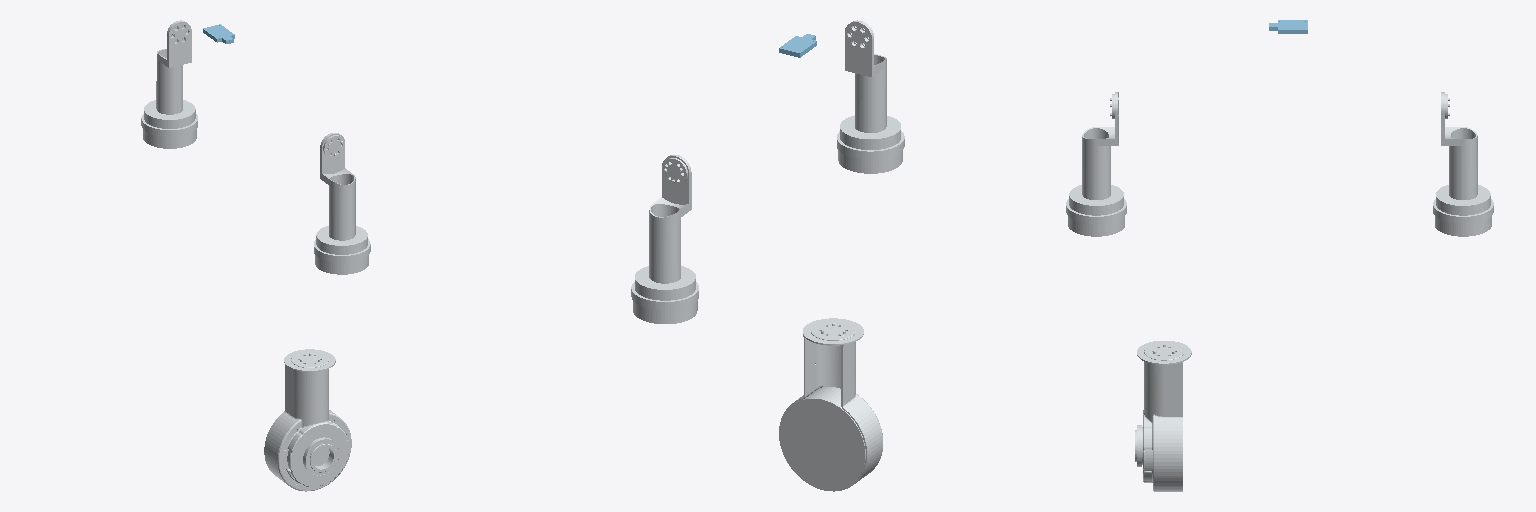
robot.urdf — k-bot_sim:
<robot name="k-bot_sim">
  <link name="floating_base_link">
  </link>
  <joint name="floating_base_joint" type="fixed">
    <parent link="floating_base_link"/>
    <child link="body1-part"/>
    <origin xyz="0 0 0" rpy="1.57 0 3.14"/>
  </joint>
  <joint name="imu_link" type="fixed">
    <origin xyz="0.039989 -0.127910 0" rpy="-1.570796 0 0"/>
    <parent link="body1-part"/>
    <child link="imu"/>
  </joint>
    <link name="imu">
    <visual name="imu_visual">
      <origin xyz="0 0 0" rpy="0 0 0"/>
      <geometry name="imu_geometry">
        <mesh filename="meshes/imu.stl"/>
      </geometry>
      <material name="imu_material">
        <color rgba="0.615686 0.811765 0.929412 1"/>
      </material>
    </visual>
    <inertial name="imu_inertial">
      <mass value="0.010000"/>
      <inertia ixx="0.000001" iyy="0.000001" izz="0.000002" ixy="0" ixz="0" iyz="0"/>
      <origin xyz="-0.007500 0 0.006000" rpy="0 0 0"/>
    </inertial>
  </link>
  <joint name="left_shoulder_pitch_03" type="revolute">
    <origin xyz="-0.000011 0.018090 0.188500" rpy="3.141593 0 3.141593"/>
    <parent link="body1-part"/>
    <child link="shoulder"/>
    <limit effort="60" velocity="6.283" lower="0" upper="3.141593"/>
    <axis xyz="0 0 1"/>
  </joint>
  <joint name="right_shoulder_pitch_03" type="revolute">
    <origin xyz="-0.000011 0.018090 -0.188500" rpy="0 0 -3.141593"/>
    <parent link="body1-part"/>
    <child link="shoulder_2"/>
    <limit effort="60" velocity="6.283" lower="-3.141593" upper="0"/>
    <axis xyz="0 0 1"/>
  </joint>
  <joint name="left_shoulder_roll_03" type="revolute">
    <origin xyz="0.023512 0.000056 -0.067500" rpy="1.570796 0 1.570796"/>
    <parent link="shoulder"/>
    <child link="arm1_top"/>
    <limit effort="60" velocity="6.283" lower="-3.630285" upper="0.479966"/>
    <axis xyz="0 0 -1"/>
  </joint>
  <joint name="right_shoulder_roll_03" type="revolute">
    <origin xyz="0.023512 -0.000056 -0.067500" rpy="1.570796 0 -1.570796"/>
    <parent link="shoulder_2"/>
    <child link="arm1_top_2"/>
    <limit effort="60" velocity="6.283" lower="-0.479966" upper="3.630285"/>
    <axis xyz="0 0 1"/>
  </joint>
  <joint name="left_hip_pitch_04" type="revolute">
    <origin xyz="-0.000011 -0.432010 0.088700" rpy="-3.141593 0 -3.141593"/>
    <parent link="body1-part"/>
    <child link="leg0_shell"/>
    <limit effort="120" velocity="6.283" lower="-1.570796" upper="1.570796"/>
    <axis xyz="0 0 1"/>
  </joint>
  <joint name="right_hip_pitch_04" type="revolute">
    <origin xyz="-0.000011 -0.432010 -0.089200" rpy="0 0 -3.141593"/>
    <parent link="body1-part"/>
    <child link="leg0_shell_2"/>
    <limit effort="120" velocity="6.283" lower="-1.570796" upper="1.570796"/>
    <axis xyz="0 0 1"/>
  </joint>
  <joint name="left_shoulder_yaw_02" type="revolute">
    <origin xyz="-0.140500 0 -0.023500" rpy="-1.570796 0 -1.570796"/>
    <parent link="arm1_top"/>
    <child link="arm2_shell"/>
    <limit effort="17" velocity="12.566" lower="-1.570796" upper="1.570796"/>
    <axis xyz="0 0 1"/>
  </joint>
  <joint name="right_shoulder_yaw_02" type="revolute">
    <origin xyz="-0.140500 0 0.022500" rpy="-3.141593 1.570796 0"/>
    <parent link="arm1_top_2"/>
    <child link="arm2_shell_2"/>
    <limit effort="17" velocity="12.566" lower="-1.570796" upper="1.570796"/>
    <axis xyz="0 0 -1"/>
  </joint>
  <joint name="left_hip_roll_03" type="revolute">
    <origin xyz="0.027500 0 -0.069500" rpy="-1.570796 0 1.570796"/>
    <parent link="leg0_shell"/>
    <child link="leg1_shell"/>
    <limit effort="60" velocity="6.283" lower="-3.185226" upper="0.349066"/>
    <axis xyz="0 0 1"/>
  </joint>
  <joint name="right_hip_roll_03" type="revolute">
    <origin xyz="0.027500 0 -0.069000" rpy="1.570796 0 -1.570796"/>
    <parent link="leg0_shell_2"/>
    <child link="leg1_shell3"/>
    <limit effort="60" velocity="6.283" lower="-0.349066" upper="3.185226"/>
    <axis xyz="0 0 1"/>
  </joint>
  <joint name="left_elbow_02" type="revolute">
    <origin xyz="-0.027000 0 -0.098000" rpy="-3.141593 -1.570796 0"/>
    <parent link="arm2_shell"/>
    <child link="arm3_shell"/>
    <limit effort="17" velocity="12.566" lower="-2.530727" upper="0"/>
    <axis xyz="0 0 1"/>
  </joint>
  <joint name="right_elbow_02" type="revolute">
    <origin xyz="0 -0.027000 0.097500" rpy="-1.570796 1.570796 0"/>
    <parent link="arm2_shell_2"/>
    <child link="arm3_shell2"/>
    <limit effort="17" velocity="12.566" lower="0" upper="2.530727"/>
    <axis xyz="0 0 1"/>
  </joint>
  <joint name="left_hip_yaw_03" type="revolute">
    <origin xyz="-0.157500 0.000120 0.027500" rpy="0 1.570796 0"/>
    <parent link="leg1_shell"/>
    <child link="leg2_shell"/>
    <limit effort="60" velocity="6.283" lower="-1.570796" upper="1.570796"/>
    <axis xyz="0 0 1"/>
  </joint>
  <joint name="right_hip_yaw_03" type="revolute">
    <origin xyz="-0.157500 -0.000120 0.027500" rpy="-3.141593 -1.570796 0"/>
    <parent link="leg1_shell3"/>
    <child link="leg2_shell_2"/>
    <limit effort="60" velocity="6.283" lower="-1.570796" upper="1.570796"/>
    <axis xyz="0 0 1"/>
  </joint>
  <joint name="left_wrist_02" type="revolute">
    <origin xyz="-0.182500 0 0.021500" rpy="-1.570796 0 -1.570796"/>
    <parent link="arm3_shell"/>
    <child link="hand_shell"/>
    <limit effort="17" velocity="12.566" lower="-3.141593" upper="3.141593"/>
    <axis xyz="0 0 1"/>
  </joint>
  <joint name="right_wrist_02" type="revolute">
    <origin xyz="-0.182500 0 0.021500" rpy="1.570796 0 1.570796"/>
    <parent link="arm3_shell2"/>
    <child link="hand_shell_2"/>
    <limit effort="17" velocity="12.566" lower="-3.141593" upper="3.141593"/>
    <axis xyz="0 0 1"/>
  </joint>
  <joint name="left_knee_04" type="revolute">
    <origin xyz="0 -0.027000 -0.142500" rpy="1.570796 0 0"/>
    <parent link="leg2_shell"/>
    <child link="leg3_shell1"/>
    <limit effort="120" velocity="6.283" lower="0" upper="2.094395"/>
    <axis xyz="0 0 -1"/>
  </joint>
  <joint name="right_knee_04" type="revolute">
    <origin xyz="0 -0.027000 -0.142500" rpy="1.570796 0 0"/>
    <parent link="leg2_shell_2"/>
    <child link="leg3_shell11"/>
    <limit effort="120" velocity="6.283" lower="-2.094395" upper="0"/>
    <axis xyz="0 0 -1"/>
  </joint>
  <joint name="right_ankle_02" type="revolute">
    <origin xyz="0 -0.300000 -0.035500" rpy="3.141593 0 3.141593"/>
    <parent link="leg3_shell11"/>
    <child link="foot3"/>
    <limit effort="17" velocity="12.566" lower="-0.698132" upper="0.698132"/>
    <axis xyz="0 0 1.0"/>
  </joint>
  <joint name="left_ankle_02" type="revolute">
    <origin xyz="0 -0.300000 0.009500" rpy="0 0 0"/>
    <parent link="leg3_shell1"/>
    <child link="foot1"/>
    <limit effort="17" velocity="12.566" lower="-0.698132" upper="0.698132"/>
    <axis xyz="0 0 -1"/>
  </joint>
  <link name="body1-part">
    <visual name="body1-part_visual">
      <origin xyz="0 0 0" rpy="0 0 0"/>
      <geometry name="body1-part_geometry">
        <mesh filename="meshes/body1-part.stl"/>
      </geometry>
      <material name="body1-part_material">
        <color rgba="1 1 1 1"/>
      </material>
    </visual>
    <collision name="body1-part.collision">
      <origin xyz="0 0 0" rpy="0 0 0"/>
      <geometry name="body1-part_collision_geometry">
        <mesh filename="meshes/body1-part.collision.stl"/>
      </geometry>
    </collision>
    <inertial name="body1-part_inertial">
      <mass value="9.415838"/>
      <inertia ixx="0.406102" iyy="0.096732" izz="0.321504" ixy="0.001018" ixz="0.000014" iyz="-0.000180"/>
      <origin xyz="-0.000153 -0.214129 -0.000094" rpy="0 0 0"/>
    </inertial>
  </link>
  <link name="shoulder">
    <visual name="shoulder_visual">
      <origin xyz="0 0 0" rpy="0 0 0"/>
      <geometry name="shoulder_geometry">
        <mesh filename="meshes/shoulder.stl"/>
      </geometry>
      <material name="shoulder_material">
        <color rgba="1 1 1 1"/>
      </material>
    </visual>
    <collision name="shoulder.collision">
      <origin xyz="0 0 0" rpy="0 0 0"/>
      <geometry name="shoulder_collision_geometry">
        <mesh filename="meshes/shoulder.collision.stl"/>
      </geometry>
    </collision>
    <inertial name="shoulder_inertial">
      <mass value="1.107356"/>
      <inertia ixx="0.001481" iyy="0.001039" izz="0.000986" ixy="0" ixz="-0.000003" iyz="0"/>
      <origin xyz="-0.002144 0.000055 -0.066483" rpy="0 0 0"/>
    </inertial>
  </link>
  <link name="shoulder_2">
    <visual name="shoulder_visual_2">
      <origin xyz="0 0 0" rpy="0 0 0"/>
      <geometry name="shoulder_geometry_2">
        <mesh filename="meshes/shoulder_2.stl"/>
      </geometry>
      <material name="shoulder_material_2">
        <color rgba="1 1 1 1"/>
      </material>
    </visual>
    <collision name="shoulder.collision_2">
      <origin xyz="0 0 0" rpy="0 0 0"/>
      <geometry name="shoulder_collision_geometry_2">
        <mesh filename="meshes/shoulder_2.collision.stl"/>
      </geometry>
    </collision>
    <inertial name="shoulder_inertial_2">
      <mass value="1.107354"/>
      <inertia ixx="0.001481" iyy="0.001039" izz="0.000986" ixy="0" ixz="-0.000003" iyz="0"/>
      <origin xyz="-0.002144 -0.000055 -0.066483" rpy="0 0 0"/>
    </inertial>
  </link>
  <link name="arm1_top">
    <visual name="arm1_top_visual">
      <origin xyz="0 0 0" rpy="0 0 0"/>
      <geometry name="arm1_top_geometry">
        <mesh filename="meshes/arm1_top.stl"/>
      </geometry>
      <material name="arm1_top_material">
        <color rgba="0.898039 0.917647 0.929412 1"/>
      </material>
    </visual>
    <inertial name="arm1_top_inertial">
      <mass value="0.572732"/>
      <inertia ixx="0.000453" iyy="0.001076" izz="0.001035" ixy="0" ixz="-0.000195" iyz="0"/>
      <origin xyz="-0.099486 -0.000001 -0.019082" rpy="0 0 0"/>
    </inertial>
  </link>
  <link name="arm1_top_2">
    <visual name="arm1_top_2_visual">
      <origin xyz="0 0 0" rpy="0 0 0"/>
      <geometry name="arm1_top_2_geometry">
        <mesh filename="meshes/arm1_top_2.stl"/>
      </geometry>
      <material name="arm1_top_2_material">
        <color rgba="0.898039 0.917647 0.929412 1"/>
      </material>
    </visual>
    <inertial name="arm1_top_2_inertial">
      <mass value="0.572732"/>
      <inertia ixx="0.000453" iyy="0.001076" izz="0.001035" ixy="0" ixz="0.000195" iyz="0"/>
      <origin xyz="-0.099486 -0.000001 0.018082" rpy="0 0 0"/>
    </inertial>
  </link>
  <link name="leg0_shell">
    <visual name="leg0_shell_visual">
      <origin xyz="0 0 0" rpy="0 0 0"/>
      <geometry name="leg0_shell_geometry">
        <mesh filename="meshes/leg0_shell.stl"/>
      </geometry>
      <material name="leg0_shell_material">
        <color rgba="0.898039 0.917647 0.929412 1"/>
      </material>
    </visual>
    <collision name="leg0_shell.collision">
      <origin xyz="0 0 0" rpy="0 0 0"/>
      <geometry name="leg0_shell_collision_geometry">
        <mesh filename="meshes/leg0_shell.collision.stl"/>
      </geometry>
    </collision>
    <inertial name="leg0_shell_inertial">
      <mass value="1.323448"/>
      <inertia ixx="0.001886" iyy="0.001425" izz="0.001300" ixy="0" ixz="0.000007" iyz="0"/>
      <origin xyz="-0.003746 0 -0.068125" rpy="0 0 0"/>
    </inertial>
  </link>
  <link name="leg0_shell_2">
    <visual name="leg0_shell_visual_2">
      <origin xyz="0 0 0" rpy="0 0 0"/>
      <geometry name="leg0_shell_geometry_2">
        <mesh filename="meshes/leg0_shell_2.stl"/>
      </geometry>
      <material name="leg0_shell_material_2">
        <color rgba="0.898039 0.917647 0.929412 1"/>
      </material>
    </visual>
    <collision name="leg0_shell.collision_2">
      <origin xyz="0 0 0" rpy="0 0 0"/>
      <geometry name="leg0_shell_collision_geometry_2">
        <mesh filename="meshes/leg0_shell_2.collision.stl"/>
      </geometry>
    </collision>
    <inertial name="leg0_shell_inertial_2">
      <mass value="1.323448"/>
      <inertia ixx="0.001886" iyy="0.001425" izz="0.001300" ixy="0" ixz="0.000007" iyz="0"/>
      <origin xyz="-0.003746 0 -0.067625" rpy="0 0 0"/>
    </inertial>
  </link>
  <link name="arm2_shell">
    <visual name="arm2_shell_visual">
      <origin xyz="0 0 0" rpy="0 0 0"/>
      <geometry name="arm2_shell_geometry">
        <mesh filename="meshes/arm2_shell.stl"/>
      </geometry>
      <material name="arm2_shell_material">
        <color rgba="0.898039 0.917647 0.929412 1"/>
      </material>
    </visual>
    <collision name="arm2_shell.collision">
      <origin xyz="0 0 0" rpy="0 0 0"/>
      <geometry name="arm2_shell_collision_geometry">
        <mesh filename="meshes/arm2_shell.collision.stl"/>
      </geometry>
    </collision>
    <inertial name="arm2_shell_inertial">
      <mass value="0.510678"/>
      <inertia ixx="0.000675" iyy="0.000532" izz="0.000255" ixy="0" ixz="-0.000006" iyz="0"/>
      <origin xyz="-0.006339 0 -0.090482" rpy="0 0 0"/>
    </inertial>
  </link>
  <link name="arm2_shell_2">
    <visual name="arm2_shell_visual_2">
      <origin xyz="0 0 0" rpy="0 0 0"/>
      <geometry name="arm2_shell_geometry_2">
        <mesh filename="meshes/arm2_shell_2.stl"/>
      </geometry>
      <material name="arm2_shell_material_2">
        <color rgba="0.898039 0.917647 0.929412 1"/>
      </material>
    </visual>
    <collision name="arm2_shell.collision_2">
      <origin xyz="0 0 0" rpy="0 0 0"/>
      <geometry name="arm2_shell_collision_geometry_2">
        <mesh filename="meshes/arm2_shell_2.collision.stl"/>
      </geometry>
    </collision>
    <inertial name="arm2_shell_inertial_2">
      <mass value="0.510678"/>
      <inertia ixx="0.000532" iyy="0.000675" izz="0.000255" ixy="0" ixz="0" iyz="0.000006"/>
      <origin xyz="0 -0.006339 0.089982" rpy="0 0 0"/>
    </inertial>
  </link>
  <link name="leg1_shell">
    <visual name="leg1_shell_visual">
      <origin xyz="0 0 0" rpy="0 0 0"/>
      <geometry name="leg1_shell_geometry">
        <mesh filename="meshes/leg1_shell.stl"/>
      </geometry>
      <material name="leg1_shell_material">
        <color rgba="0.898039 0.917647 0.929412 1"/>
      </material>
    </visual>
    <inertial name="leg1_shell_inertial">
      <mass value="1.264352"/>
      <inertia ixx="0.001481" iyy="0.002486" izz="0.002413" ixy="-0.000018" ixz="0.000290" iyz="-0.000002"/>
      <origin xyz="-0.112524 0.000529 0.025259" rpy="0 0 0"/>
    </inertial>
  </link>
  <link name="leg1_shell3">
    <visual name="leg1_shell3_visual">
      <origin xyz="0 0 0" rpy="0 0 0"/>
      <geometry name="leg1_shell3_geometry">
        <mesh filename="meshes/leg1_shell3.stl"/>
      </geometry>
      <material name="leg1_shell3_material">
        <color rgba="0.898039 0.917647 0.929412 1"/>
      </material>
    </visual>
    <inertial name="leg1_shell3_inertial">
      <mass value="1.264352"/>
      <inertia ixx="0.001481" iyy="0.002486" izz="0.002413" ixy="0.000018" ixz="0.000290" iyz="0.000002"/>
      <origin xyz="-0.112524 -0.000529 0.025259" rpy="0 0 0"/>
    </inertial>
  </link>
  <link name="arm3_shell">
    <visual name="arm3_shell_visual">
      <origin xyz="0 0 0" rpy="0 0 0"/>
      <geometry name="arm3_shell_geometry">
        <mesh filename="meshes/arm3_shell.stl"/>
      </geometry>
      <material name="arm3_shell_material">
        <color rgba="0.898039 0.917647 0.929412 1"/>
      </material>
    </visual>
    <inertial name="arm3_shell_inertial">
      <mass value="0.578536"/>
      <inertia ixx="0.000428" iyy="0.001354" izz="0.001332" ixy="0" ixz="0.000144" iyz="0"/>
      <origin xyz="-0.140169 0 0.019433" rpy="0 0 0"/>
    </inertial>
  </link>
  <link name="arm3_shell2">
    <visual name="arm3_shell2_visual">
      <origin xyz="0 0 0" rpy="0 0 0"/>
      <geometry name="arm3_shell2_geometry">
        <mesh filename="meshes/arm3_shell2.stl"/>
      </geometry>
      <material name="arm3_shell2_material">
        <color rgba="0.898039 0.917647 0.929412 1"/>
      </material>
    </visual>
    <inertial name="arm3_shell2_inertial">
      <mass value="0.578536"/>
      <inertia ixx="0.000428" iyy="0.001354" izz="0.001332" ixy="0" ixz="0.000144" iyz="0"/>
      <origin xyz="-0.140169 0 0.019433" rpy="0 0 0"/>
    </inertial>
  </link>
  <link name="leg2_shell">
    <visual name="leg2_shell_visual">
      <origin xyz="0 0 0" rpy="0 0 0"/>
      <geometry name="leg2_shell_geometry">
        <mesh filename="meshes/leg2_shell.stl"/>
      </geometry>
      <material name="leg2_shell_material">
        <color rgba="0.898039 0.917647 0.929412 1"/>
      </material>
    </visual>
    <inertial name="leg2_shell_inertial">
      <mass value="1.820923"/>
      <inertia ixx="0.003118" iyy="0.004225" izz="0.002064" ixy="0" ixz="0" iyz="-0.000034"/>
      <origin xyz="0 0.000532 -0.137308" rpy="0 0 0"/>
    </inertial>
  </link>
  <link name="leg2_shell_2">
    <visual name="leg2_shell_visual_2">
      <origin xyz="0 0 0" rpy="0 0 0"/>
      <geometry name="leg2_shell_geometry_2">
        <mesh filename="meshes/leg2_shell_2.stl"/>
      </geometry>
      <material name="leg2_shell_material_2">
        <color rgba="0.898039 0.917647 0.929412 1"/>
      </material>
    </visual>
    <inertial name="leg2_shell_inertial_2">
      <mass value="1.820923"/>
      <inertia ixx="0.003118" iyy="0.004225" izz="0.002064" ixy="0" ixz="0" iyz="-0.000034"/>
      <origin xyz="0 0.000532 -0.137308" rpy="0 0 0"/>
    </inertial>
  </link>
  <link name="hand_shell">
    <visual name="hand_shell_visual">
      <origin xyz="0 0 0" rpy="0 0 0"/>
      <geometry name="hand_shell_geometry">
        <mesh filename="meshes/hand_shell.stl"/>
      </geometry>
      <material name="hand_shell_material">
        <color rgba="0.898039 0.917647 0.929412 1"/>
      </material>
    </visual>
    <collision name="hand_shell.collision">
      <origin xyz="0 0 0" rpy="0 0 0"/>
      <geometry name="hand_shell_collision_geometry">
        <mesh filename="meshes/hand_shell.collision.stl"/>
      </geometry>
    </collision>
    <inertial name="hand_shell_inertial">
      <mass value="0.793063"/>
      <inertia ixx="0.002034" iyy="0.002869" izz="0.001280" ixy="0" ixz="-0.000023" iyz="0.000004"/>
      <origin xyz="0.000709 0.000130 -0.074657" rpy="0 0 0"/>
    </inertial>
  </link>
  <link name="hand_shell_2">
    <visual name="hand_shell_visual_2">
      <origin xyz="0 0 0" rpy="0 0 0"/>
      <geometry name="hand_shell_geometry_2">
        <mesh filename="meshes/hand_shell_2.stl"/>
      </geometry>
      <material name="hand_shell_material_2">
        <color rgba="0.898039 0.917647 0.929412 1"/>
      </material>
    </visual>
    <collision name="hand_shell.collision_2">
      <origin xyz="0 0 0" rpy="0 0 0"/>
      <geometry name="hand_shell_collision_geometry_2">
        <mesh filename="meshes/hand_shell_2.collision.stl"/>
      </geometry>
    </collision>
    <inertial name="hand_shell_inertial_2">
      <mass value="0.793063"/>
      <inertia ixx="0.002034" iyy="0.002869" izz="0.001280" ixy="0" ixz="-0.000023" iyz="0.000004"/>
      <origin xyz="0.000709 0.000130 -0.074657" rpy="0 0 0"/>
    </inertial>
  </link>
  <link name="leg3_shell1">
    <visual name="leg3_shell1_visual">
      <origin xyz="0 0 0" rpy="0 0 0"/>
      <geometry name="leg3_shell1_geometry">
        <mesh filename="meshes/leg3_shell1.stl"/>
      </geometry>
      <material name="leg3_shell1_material">
        <color rgba="0.898039 0.917647 0.929412 1"/>
      </material>
    </visual>
    <collision name="leg3_shell1.collision">
      <origin xyz="0 0 0" rpy="0 0 0"/>
      <geometry name="leg3_shell1_collision_geometry">
        <mesh filename="meshes/leg3_shell1.collision.stl"/>
      </geometry>
    </collision>
    <inertial name="leg3_shell1_inertial">
      <mass value="1.109955"/>
      <inertia ixx="0.006740" iyy="0.001013" izz="0.006746" ixy="0.000062" ixz="-0.000017" iyz="0.000013"/>
      <origin xyz="0.001098 -0.131322 -0.023162" rpy="0 0 0"/>
    </inertial>
  </link>
  <link name="leg3_shell11">
    <visual name="leg3_shell11_visual">
      <origin xyz="0 0 0" rpy="0 0 0"/>
      <geometry name="leg3_shell11_geometry">
        <mesh filename="meshes/leg3_shell11.stl"/>
      </geometry>
      <material name="leg3_shell11_material">
        <color rgba="0.898039 0.917647 0.929412 1"/>
      </material>
    </visual>
    <collision name="leg3_shell11.collision">
      <origin xyz="0 0 0" rpy="0 0 0"/>
      <geometry name="leg3_shell11_collision_geometry">
        <mesh filename="meshes/leg3_shell11.collision.stl"/>
      </geometry>
    </collision>
    <inertial name="leg3_shell11_inertial">
      <mass value="1.109962"/>
      <inertia ixx="0.006740" iyy="0.001013" izz="0.006746" ixy="-0.000062" ixz="0.000017" iyz="0.000013"/>
      <origin xyz="-0.001098 -0.131322 -0.023162" rpy="0 0 0"/>
    </inertial>
  </link>
  <link name="foot3">
    <visual name="foot3_visual">
      <origin xyz="0 0 0" rpy="0 0 0"/>
      <geometry name="foot3_geometry">
        <mesh filename="meshes/foot3.stl"/>
      </geometry>
      <material name="foot3_material">
        <color rgba="0.898039 0.917647 0.929412 1"/>
      </material>
    </visual>
    <collision name="foot3.collision">
      <origin xyz="0 0 0" rpy="0 0 0"/>
      <geometry name="foot3_collision_geometry">
        <mesh filename="meshes/foot3.collision.stl"/>
      </geometry>
    </collision>
    <inertial name="foot3_inertial">
      <mass value="0.582091"/>
      <inertia ixx="0.000284" iyy="0.002188" izz="0.002024" ixy="0.000040" ixz="0.000033" iyz="-0.000004"/>
      <origin xyz="0.021350 -0.019419 -0.023724" rpy="0 0 0"/>
    </inertial>
  </link>
  <link name="foot1">
    <visual name="foot1_visual">
      <origin xyz="0 0 0" rpy="0 0 0"/>
      <geometry name="foot1_geometry">
        <mesh filename="meshes/foot1.stl"/>
      </geometry>
      <material name="foot1_material">
        <color rgba="0.898039 0.917647 0.929412 1"/>
      </material>
    </visual>
    <collision name="foot1.collision">
      <origin xyz="0 0 0" rpy="0 0 0"/>
      <geometry name="foot1_collision_geometry">
        <mesh filename="meshes/foot1.collision.stl"/>
      </geometry>
    </collision>
    <inertial name="foot1_inertial">
      <mass value="0.582091"/>
      <inertia ixx="0.000284" iyy="0.002188" izz="0.002024" ixy="0.000040" ixz="-0.000033" iyz="0.000004"/>
      <origin xyz="0.021350 -0.019419 -0.019276" rpy="0 0 0"/>
    </inertial>
  </link>
</robot>

--- What the picture shows (computed from the rendered views, not written in the file) ---
3 views of the same robot in one strip: view 1: azimuth 30°, elevation 25°; view 2: azimuth 150°, elevation 25°; view 3: azimuth 270°, elevation 25° (orthographic).
Model k-bot_sim with 23 links and 22 joints (20 revolute, 2 fixed), rooted at floating_base_link, posed all joints at 0.
Visible links, largest first — view 1: leg2_shell_2, arm3_shell2, arm3_shell; view 2: leg2_shell_2, arm3_shell, arm3_shell2, imu; view 3: leg2_shell_2, arm3_shell2, arm3_shell.
Boxes of the visible links, bbox=[...] form: leg2_shell_2: bbox=[264, 349, 351, 491]; arm3_shell2: bbox=[314, 133, 370, 274]; arm3_shell: bbox=[141, 20, 197, 148]; leg2_shell_2: bbox=[779, 318, 882, 491]; arm3_shell: bbox=[631, 155, 698, 323]; arm3_shell2: bbox=[837, 20, 904, 173]; imu: bbox=[779, 34, 816, 57]; leg2_shell_2: bbox=[1135, 341, 1191, 491]; arm3_shell2: bbox=[1066, 92, 1126, 236]; arm3_shell: bbox=[1433, 92, 1493, 236].
Bounding box of the posed robot: 0.129 × 0.584 × 0.6725 m (x, y, z).
4 mesh visuals loaded from 22 distinct referenced files (4 binary STL); not drawn: 18 (reference not matched to a file when rendering).